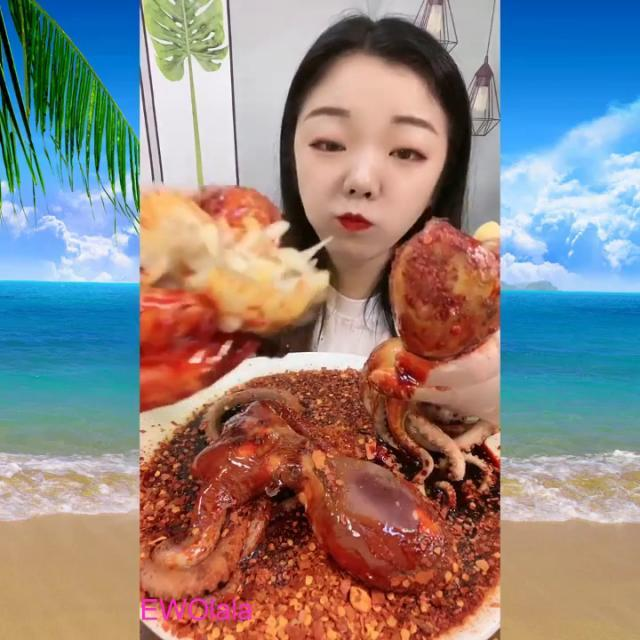octopus: (137, 386, 464, 600), (354, 215, 502, 517)
